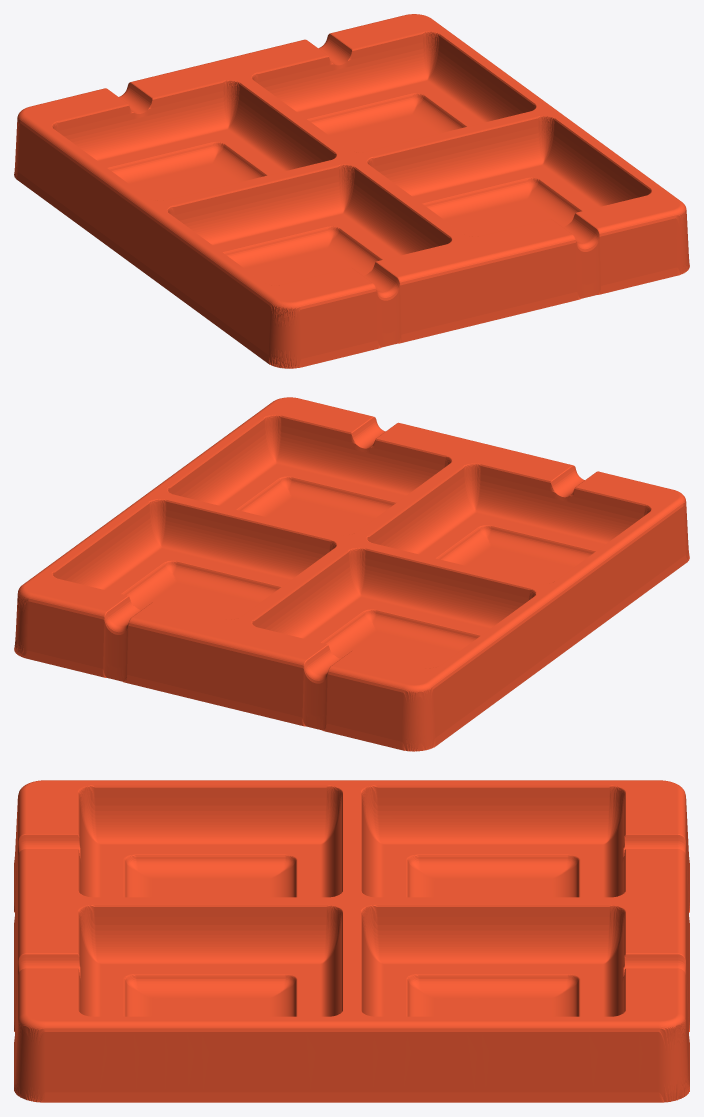
Rendered from mold.glb.
3 views of the same model, one above another, from view 1: azimuth 30°, elevation 25°; view 2: azimuth 150°, elevation 25°; view 3: azimuth 270°, elevation 25° (orthographic). The views are drawn at different scales.
Parts seen in each view (by area): view 1: geometry_0; view 2: geometry_0; view 3: geometry_0.
Boxes of the visible parts, left/top/right/bottom form: geometry_0: left=14, top=14, right=689, bottom=368; geometry_0: left=14, top=397, right=689, bottom=751; geometry_0: left=14, top=780, right=689, bottom=1102.
Size of the model in its own units: 0.1726 by 0.0245 by 0.1968.
